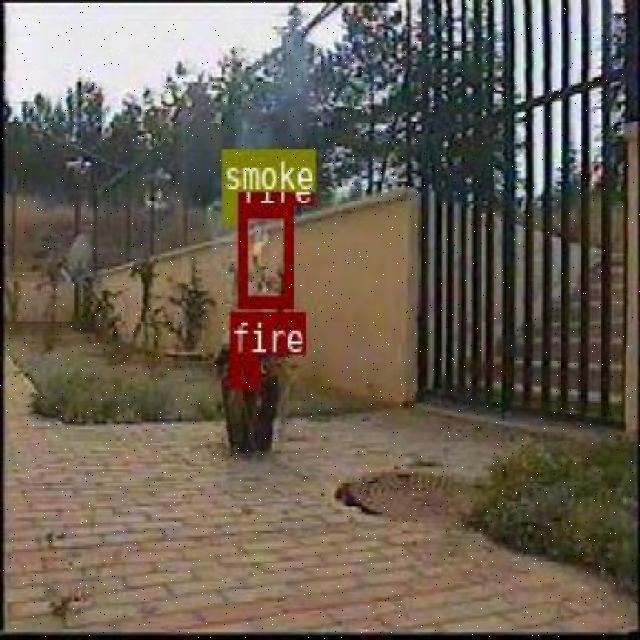Smoke: (222, 192, 236, 222)
